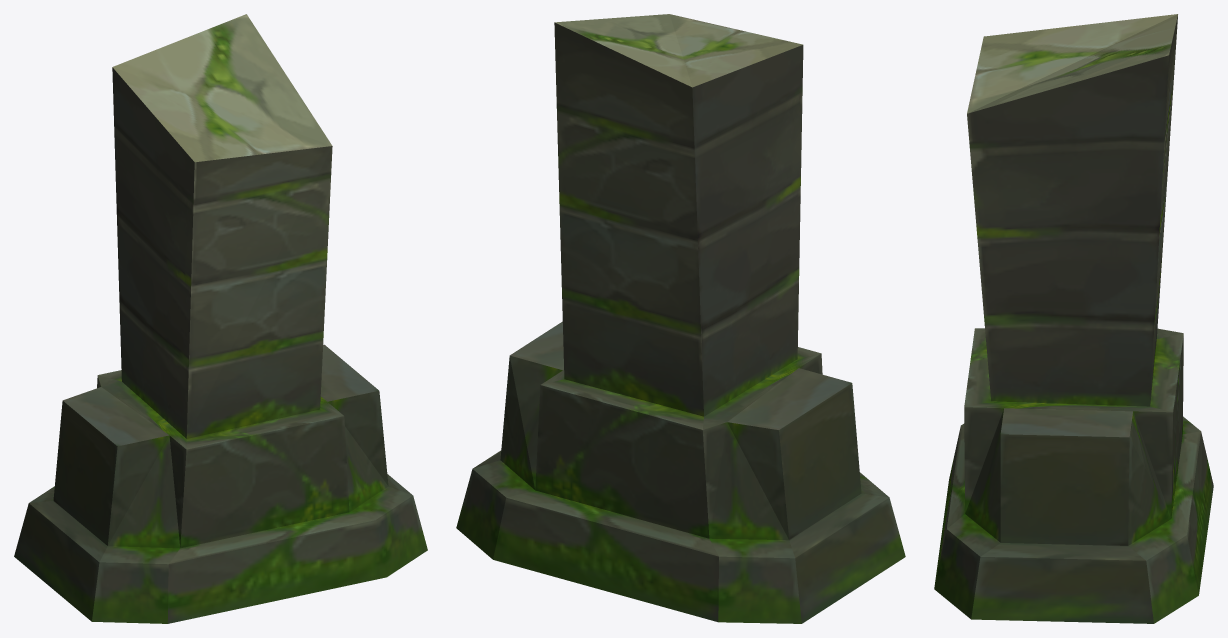
Rendered from fb_lyhg_zj_01_l.FBX.
3 views of the same model, side by side, from view 1: azimuth 30°, elevation 25°; view 2: azimuth 150°, elevation 25°; view 3: azimuth 270°, elevation 25° (orthographic). The views are drawn at different scales.
Parts seen in each view (by area): view 1: Object008; view 2: Object008; view 3: Object008.
Part boxes in pixels (x1=…): Object008: x1=14, y1=14, x2=427, y2=623; Object008: x1=456, y1=14, x2=905, y2=623; Object008: x1=934, y1=14, x2=1213, y2=623.
Bounding box in the file's own units: 495 × 694 × 339.
